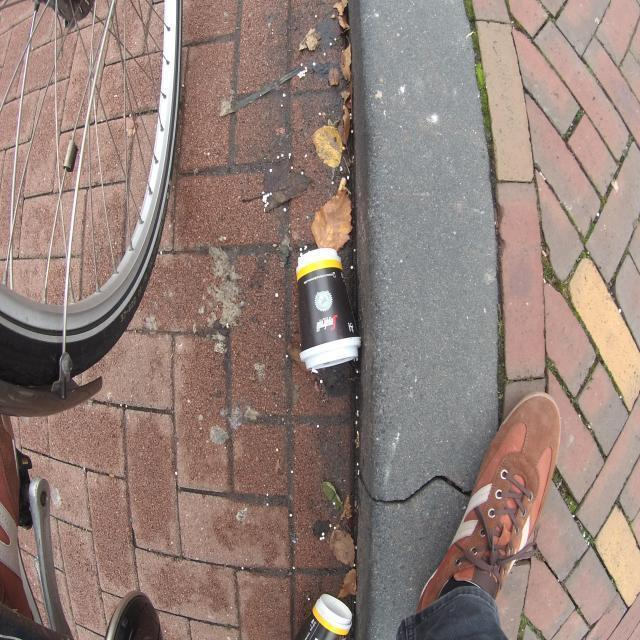Cup: (294, 246, 363, 375), (292, 593, 352, 640)
